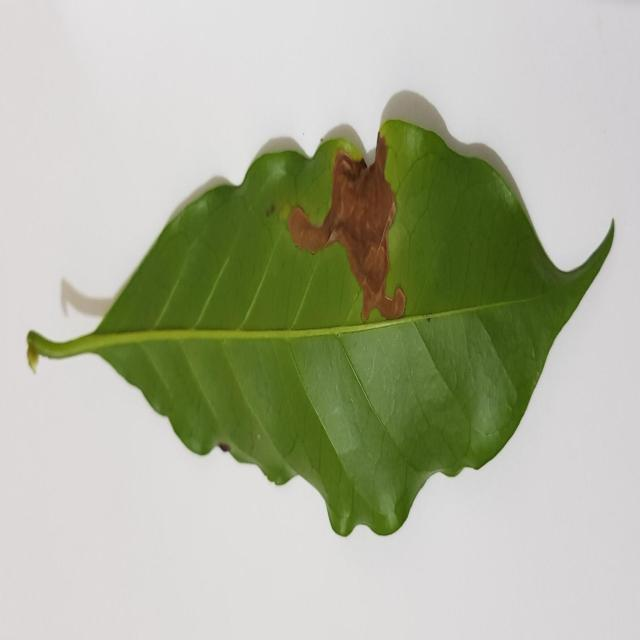Plaga-Minador: (25, 121, 617, 539)
